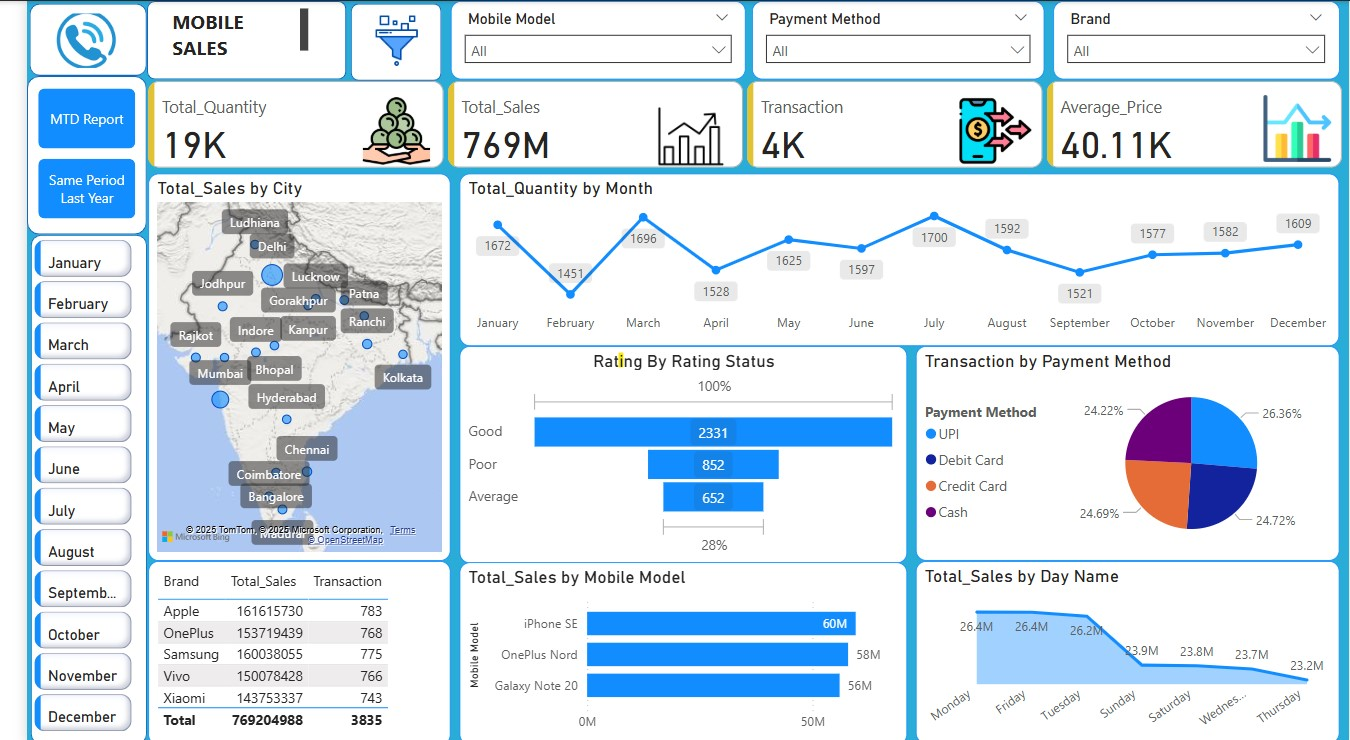

This screenshot's page, from the dashboard's own definition file:
{"tool":"powerbi","page":{"name":"Dashboard","canvas":[1280,720],"ordinal":0},"visuals":[{"type":"shape","box":[2.4,2.4,113.8,70.2],"z":0},{"type":"image","box":[20.6,4.8,73.8,67.8],"z":1000},{"type":"shape","box":[0,72.6,116.2,153.7],"z":2000},{"type":"shape","box":[3.6,226.4,112.6,493.9],"z":3000},{"type":"advancedSlicerVisual","fields":{"Values":["Custom_Calendar.Date.Variation.Date Hierarchy.Month"]},"box":[2.4,226.4,104.1,493.9],"z":4000},{"type":"cardVisual","fields":{"Data":["Sales_Data.Total_Quantity","Sales_Data.Total_Sales","Sales_Data.Transaction","Sales_Data.Average_Price"]},"box":[112.6,72.6,1166.9,94.4],"z":5000},{"type":"slicer","fields":{"Values":["Sales_Data.Mobile Model"]},"box":[410.4,0,285.7,76.3],"z":6000},{"type":"slicer","fields":{"Values":["Sales_Data.Brand"]},"box":[993.8,0,277.2,76.3],"z":7000},{"type":"slicer","fields":{"Values":["Sales_Data.Payment Method"]},"box":[702.1,0,283.3,76.3],"z":8000},{"type":"shape","box":[313.5,2.4,88.4,75.1],"z":9000},{"type":"image","box":[323.2,8.5,70.2,60.5],"z":10000},{"type":"shape","box":[116.2,0,193.7,76.3],"z":11000},{"type":"textbox","box":[135.6,2.4,141.6,65.4],"z":12000},{"type":"map","fields":{"Size":["Sales_Data.Total_Sales"],"Category":["Sales_Data.City"]},"box":[117.5,167.1,293.2,375.3],"z":13000},{"type":"lineChart","fields":{"Category":["Custom_Calendar.Date.Variation.Date Hierarchy.Month"],"Y":["Sales_Data.Total_Quantity"]},"box":[418.8,167,852.2,167],"z":14000},{"type":"funnel","title":"Rating By Rating Status","fields":{"Y":["CountNonNull(Sales_Data.Customer Age)"],"Category":["Sales_Data.Rating Status"]},"box":[418.8,334.1,433.4,210.6],"z":15000},{"type":"clusteredBarChart","fields":{"Y":["Sales_Data.Total_Sales"],"Category":["Sales_Data.Mobile Model"]},"box":[418.5,543.4,433.6,177],"z":16000},{"type":"areaChart","fields":{"Y":["Sales_Data.Total_Sales"],"Category":["Custom_Calendar.Day Name"]},"box":[860.7,542.3,410.4,176.7],"z":17000},{"type":"tableEx","fields":{"Values":["Sales_Data.Brand","Sales_Data.Total_Sales","Sales_Data.Transaction"]},"box":[118,542,293,178],"z":18000},{"type":"pieChart","fields":{"Y":["Sales_Data.Transaction"],"Category":["Sales_Data.Payment Method"]},"box":[860.7,334.1,410.4,208.2],"z":19000},{"type":"pageNavigator","box":[10.9,84.7,94.4,127.1],"z":20000}]}

Visuals, with their boxes in screenshot pixels (x1, y1, x2, y2), scaled from the page's 1280x720 canvas onto the 1350x740 screenshot:
shape: Rect(3, 2, 123, 75)
image: Rect(22, 5, 100, 75)
shape: Rect(0, 75, 123, 233)
shape: Rect(4, 233, 123, 739)
advancedSlicerVisual - Custom_Calendar.Date.Variation.Date Hierarchy.Month: Rect(3, 233, 112, 739)
cardVisual - Sales_Data.Total_Quantity x Sales_Data.Total_Sales: Rect(119, 75, 1349, 172)
slicer - Sales_Data.Mobile Model: Rect(433, 0, 734, 78)
slicer - Sales_Data.Brand: Rect(1048, 0, 1341, 78)
slicer - Sales_Data.Payment Method: Rect(740, 0, 1039, 78)
shape: Rect(331, 2, 424, 80)
image: Rect(341, 9, 415, 71)
shape: Rect(123, 0, 327, 78)
textbox: Rect(143, 2, 292, 70)
map - Sales_Data.Total_Sales x Sales_Data.City: Rect(124, 172, 433, 557)
lineChart - Custom_Calendar.Date.Variation.Date Hierarchy.Month x Sales_Data.Total_Quantity: Rect(442, 172, 1341, 343)
"Rating By Rating Status" funnel: Rect(442, 343, 899, 560)
clusteredBarChart - Sales_Data.Total_Sales x Sales_Data.Mobile Model: Rect(441, 558, 899, 739)
areaChart - Sales_Data.Total_Sales x Custom_Calendar.Day Name: Rect(908, 557, 1341, 739)
tableEx - Sales_Data.Brand x Sales_Data.Total_Sales: Rect(124, 557, 433, 739)
pieChart - Sales_Data.Transaction x Sales_Data.Payment Method: Rect(908, 343, 1341, 557)
pageNavigator: Rect(11, 87, 111, 218)
